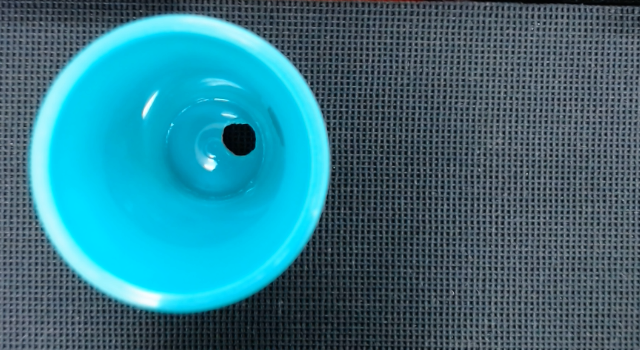hole: (223, 123, 255, 155)
